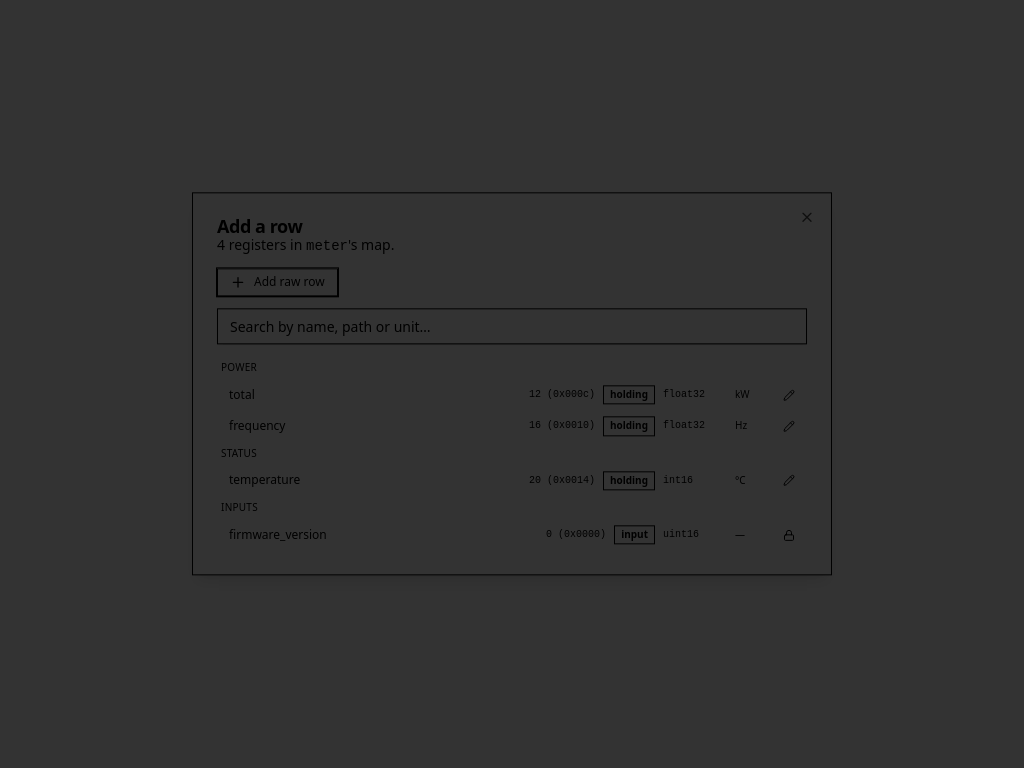
Test: AddRegisterDialog › filters by path, so an event name narrows the list
Type "power/" into the field named "Search registers" at (512, 326), box 217,308 -> 807,344
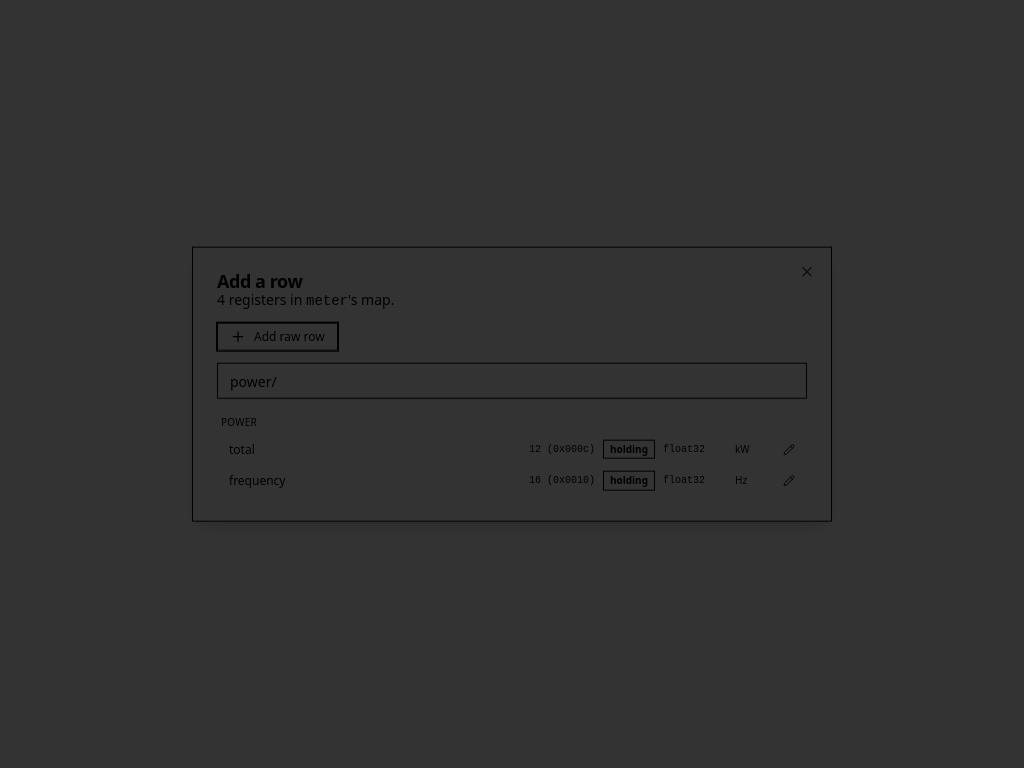
Expected: the text "total" is shown, 229,440 -> 255,457
Expected: the button "temperature" is gone
